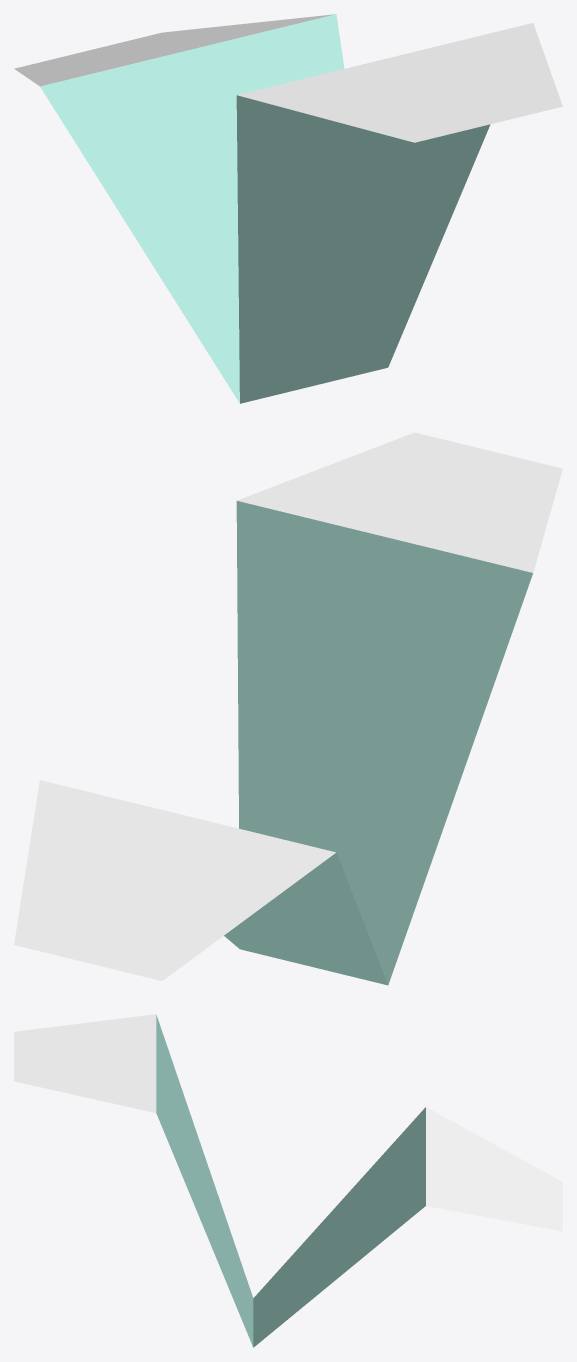
File: weedSingle.glb
3 renders of one model, top to bottom at view 1: azimuth 30°, elevation 25°; view 2: azimuth 150°, elevation 25°; view 3: azimuth 270°, elevation 25°, orthographic. The views are drawn at different scales.
Parts seen in each view (by area): view 1: weed; view 2: weed; view 3: weed.
Part boxes in pixels (<box>): weed: <box>14,14,562,403</box>; weed: <box>14,432,562,985</box>; weed: <box>14,1014,562,1347</box>.
Size of the model in its own units: 0.125 by 0.1566 by 0.2925.
Materials: 1 (1 with a texture image).
